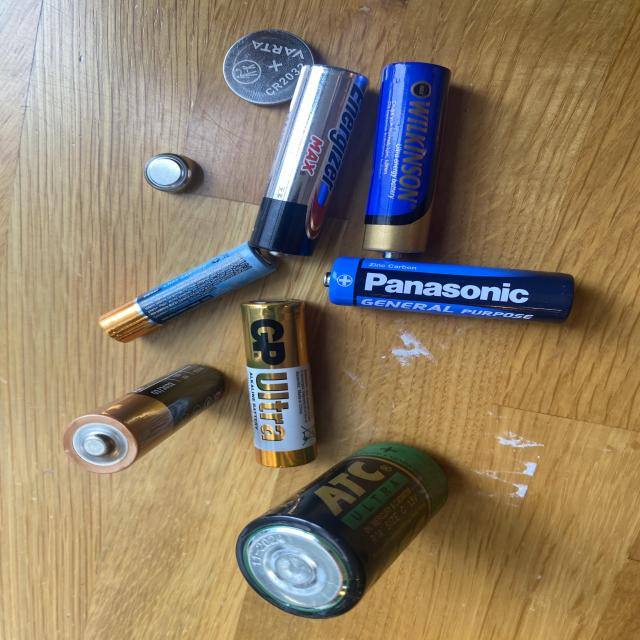AA: (323, 255, 576, 323), (240, 298, 318, 468)
AAA: (74, 232, 288, 335)
